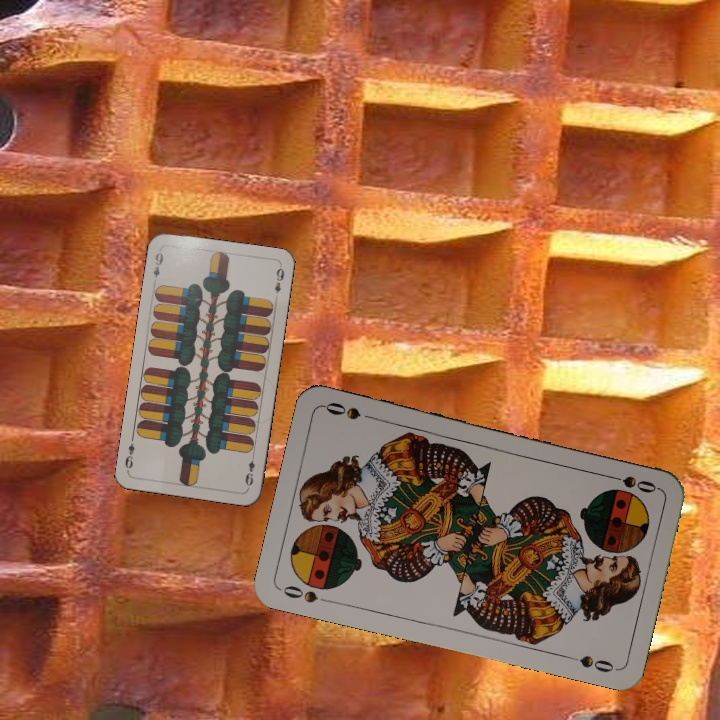E9: (149, 248, 166, 286), (241, 450, 257, 490)
SO: (602, 470, 660, 496), (279, 581, 335, 606)
